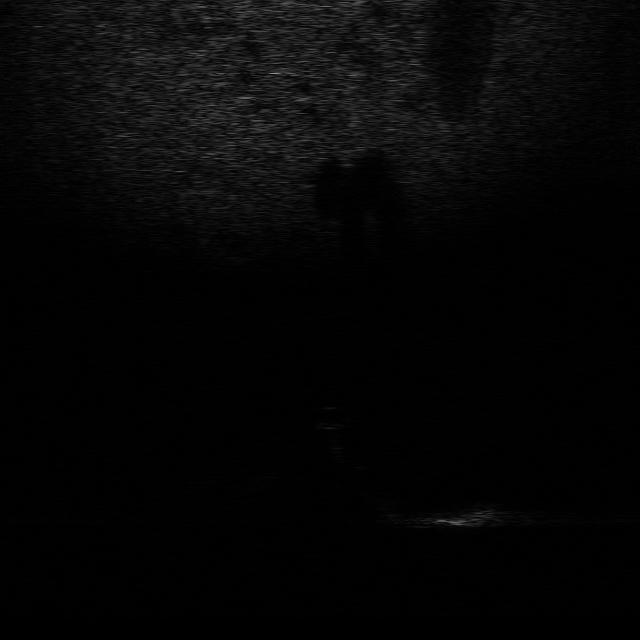ball: (302, 393, 356, 431)
metal bucket: (421, 502, 511, 532)
tyre: (341, 464, 411, 523)
